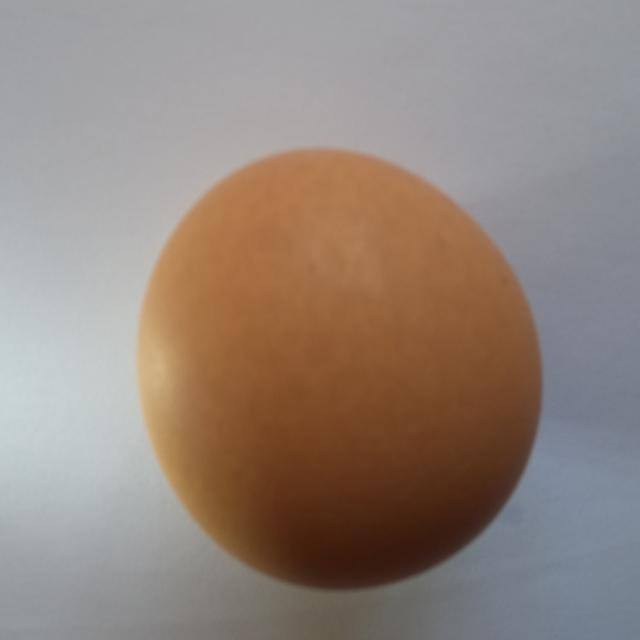Egg: (116, 122, 565, 616)
